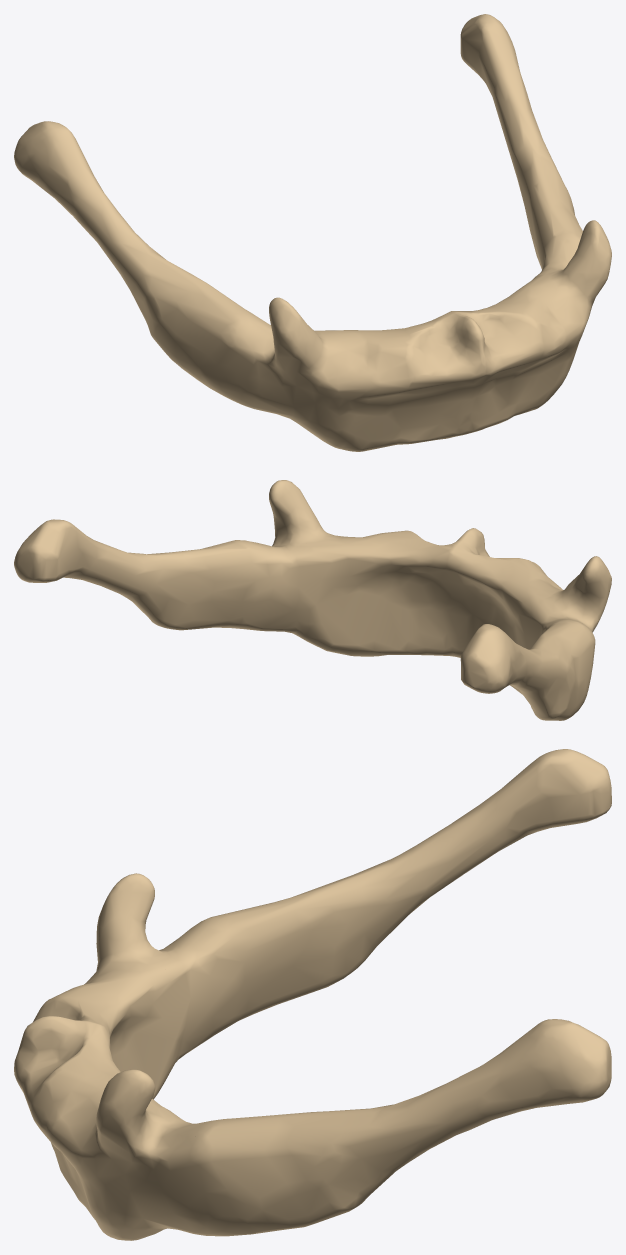
File: explorar-hyoid.glb
3 views of the same model, one above another, from view 1: azimuth 30°, elevation 25°; view 2: azimuth 150°, elevation 25°; view 3: azimuth 270°, elevation 25° (orthographic). The views are drawn at different scales.
Parts seen in each view (by area): view 1: hyoid__cuerpo, hyoid__astas_mayores, hyoid__astas_menores; view 2: hyoid__astas_mayores, hyoid__cuerpo, hyoid__astas_menores; view 3: hyoid__astas_mayores, hyoid__cuerpo, hyoid__astas_menores.
Boxes of the visible parts, bbox=[...] form: hyoid__cuerpo: bbox=[271, 274, 592, 451]; hyoid__astas_mayores: bbox=[14, 14, 582, 428]; hyoid__astas_menores: bbox=[248, 220, 611, 381]; hyoid__astas_mayores: bbox=[14, 519, 595, 720]; hyoid__cuerpo: bbox=[297, 528, 563, 694]; hyoid__astas_menores: bbox=[253, 480, 611, 632]; hyoid__astas_mayores: bbox=[130, 749, 611, 1237]; hyoid__cuerpo: bbox=[14, 969, 174, 1240]; hyoid__astas_menores: bbox=[96, 873, 206, 1169].
Bounding box in the file's own units: 0.0419 × 0.0189 × 0.0349.
